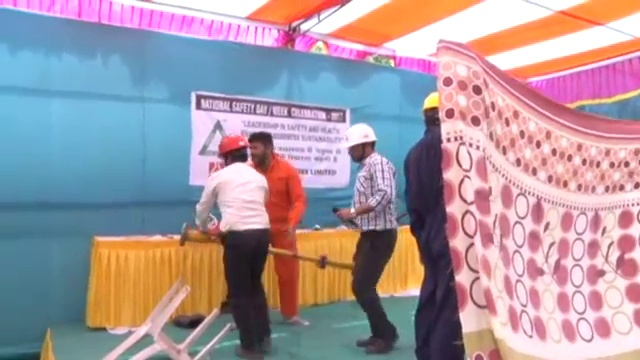helmet: (344, 122, 379, 150), (218, 134, 247, 156), (422, 89, 444, 112)
helmet_off: (247, 130, 274, 166)
helmet_on: (341, 120, 379, 165), (218, 133, 250, 167), (420, 90, 442, 135)
person: (191, 133, 272, 360), (338, 121, 402, 354), (403, 89, 457, 360), (248, 130, 310, 327)
